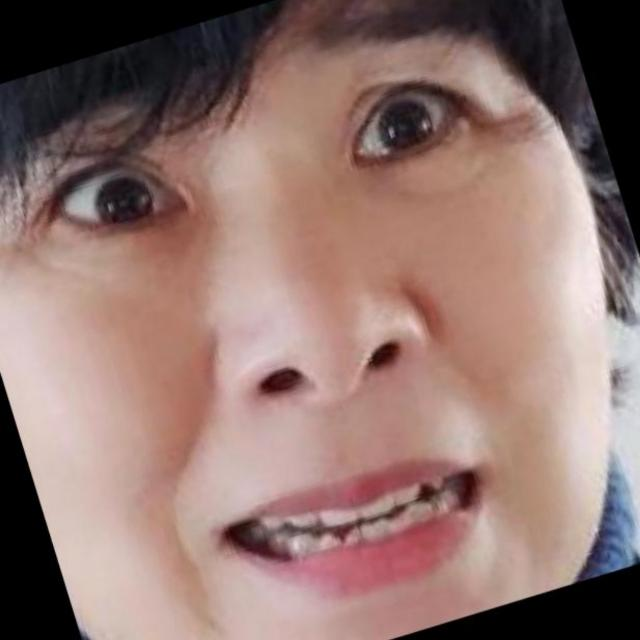Disgust: (10, 3, 640, 640)
